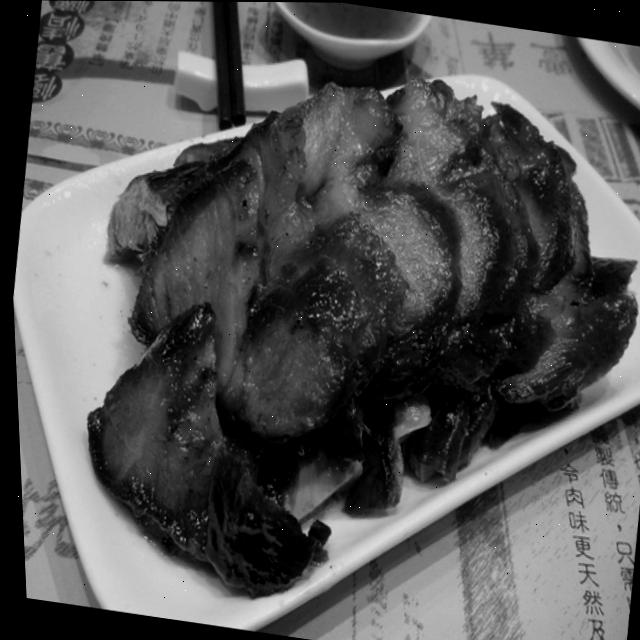烧串烤肉: (18, 21, 640, 639)
